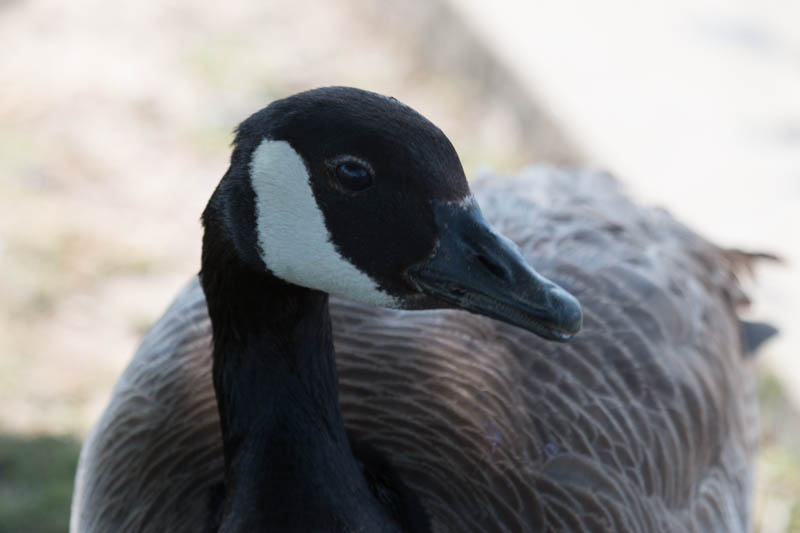goose-head: (202, 85, 584, 344)
